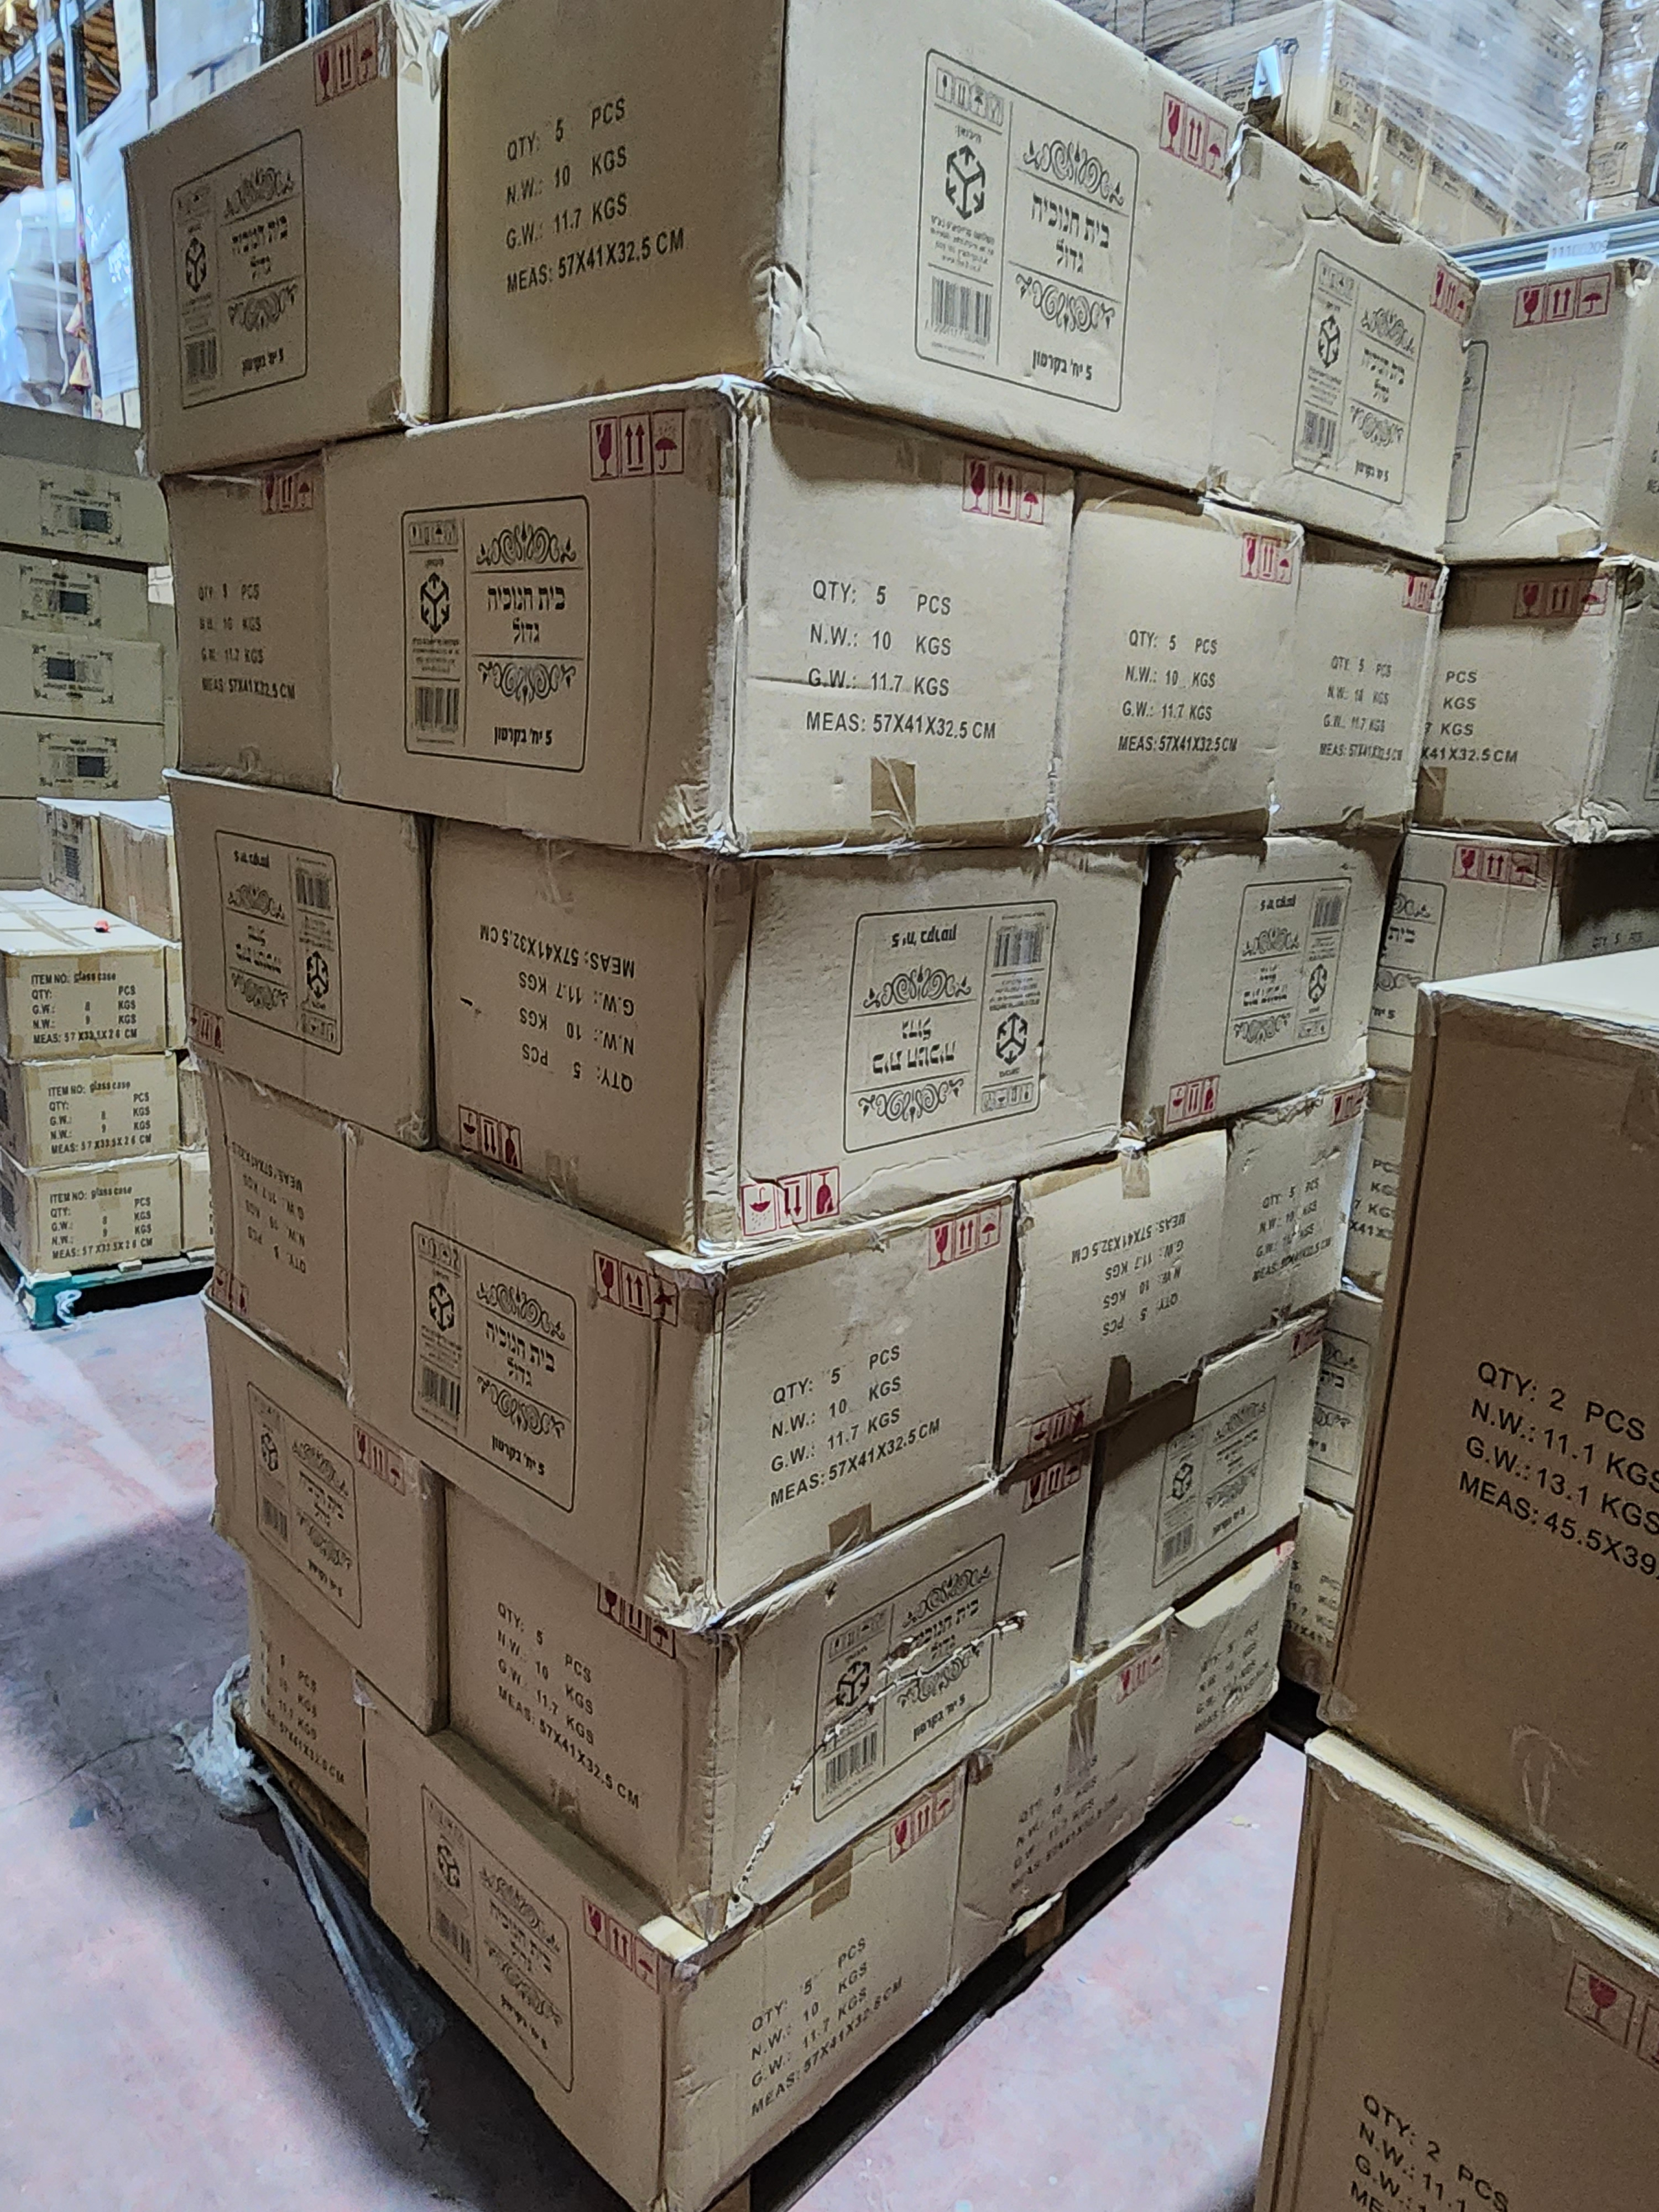box: (305, 397, 1079, 866), (427, 1458, 1143, 1942), (350, 1691, 1000, 2212), (397, 806, 1159, 1245), (396, 1122, 1016, 1627), (118, 12, 457, 458), (183, 1278, 467, 1740), (141, 751, 460, 1158), (1058, 477, 1326, 897), (106, 448, 356, 817), (129, 1047, 378, 1409), (1159, 791, 1398, 1125)
